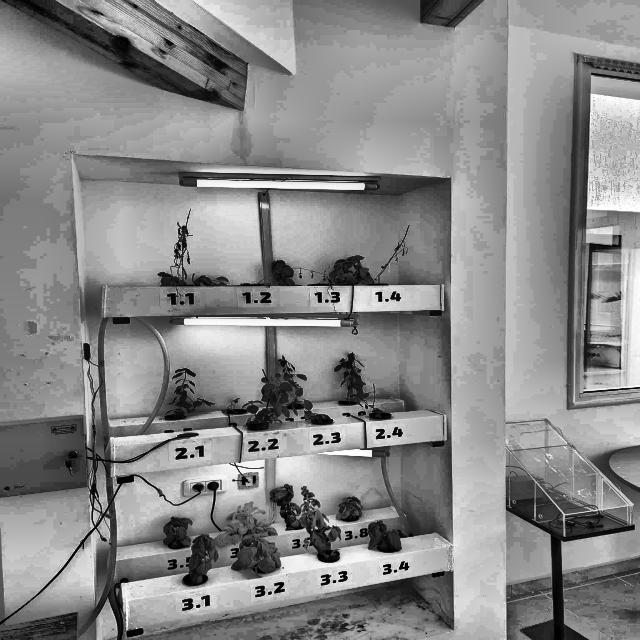plants: (157, 208, 207, 286), (275, 356, 334, 419), (297, 486, 344, 556), (250, 366, 302, 427), (363, 225, 413, 285), (216, 500, 276, 543), (167, 368, 206, 420), (268, 482, 311, 528), (234, 536, 280, 573), (250, 268, 334, 287), (184, 533, 217, 581), (336, 351, 364, 403), (331, 255, 374, 288), (364, 520, 404, 548), (162, 515, 192, 546), (271, 260, 297, 286), (338, 497, 364, 522), (225, 393, 262, 410)
